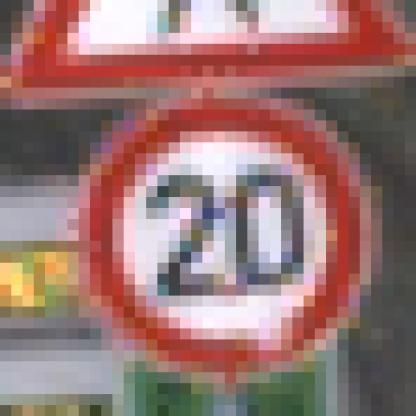Speed Limit -20-: (96, 78, 362, 373)
